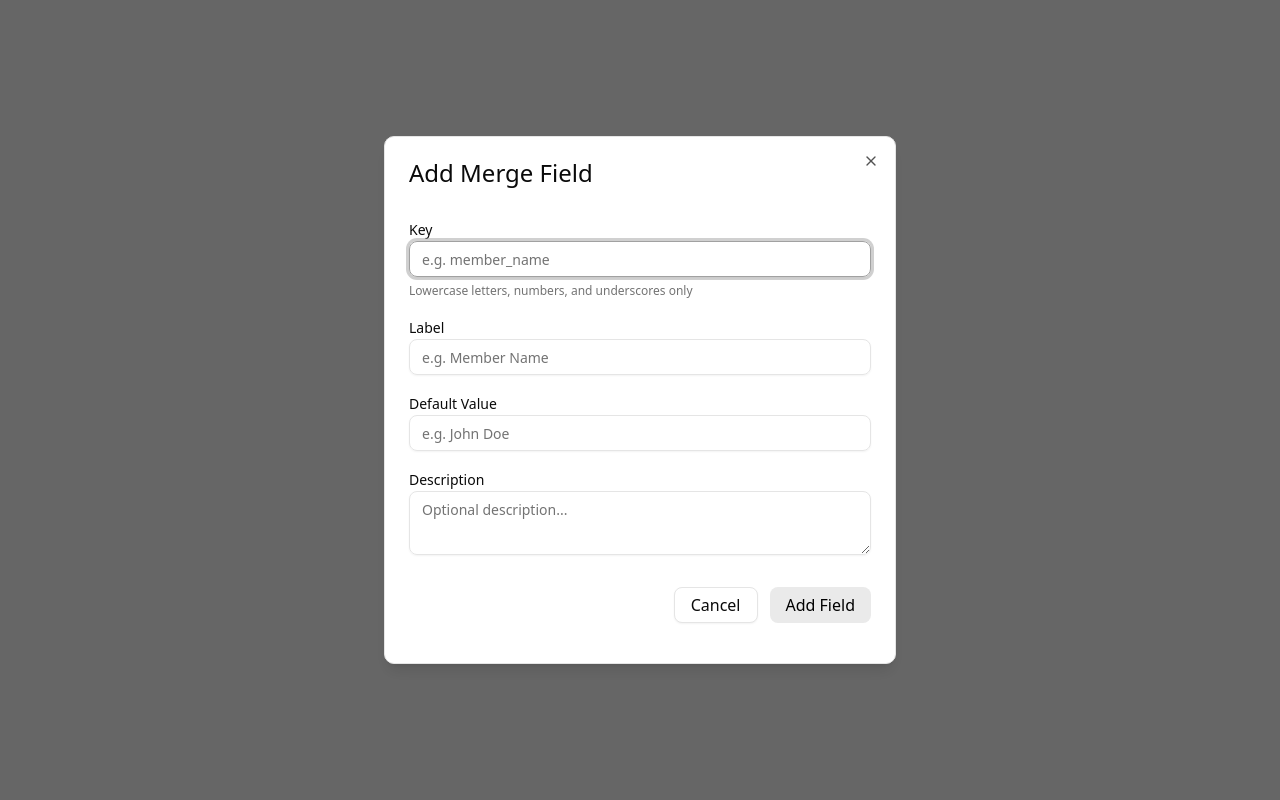
Test case: AddMergeFieldModal › should enable save button when all required fields are filled
The image size is (1280, 800).
Type "member_name" into the field with placeholder "e.g. member_name". click: (640, 259)
box: 409,241 -> 871,277
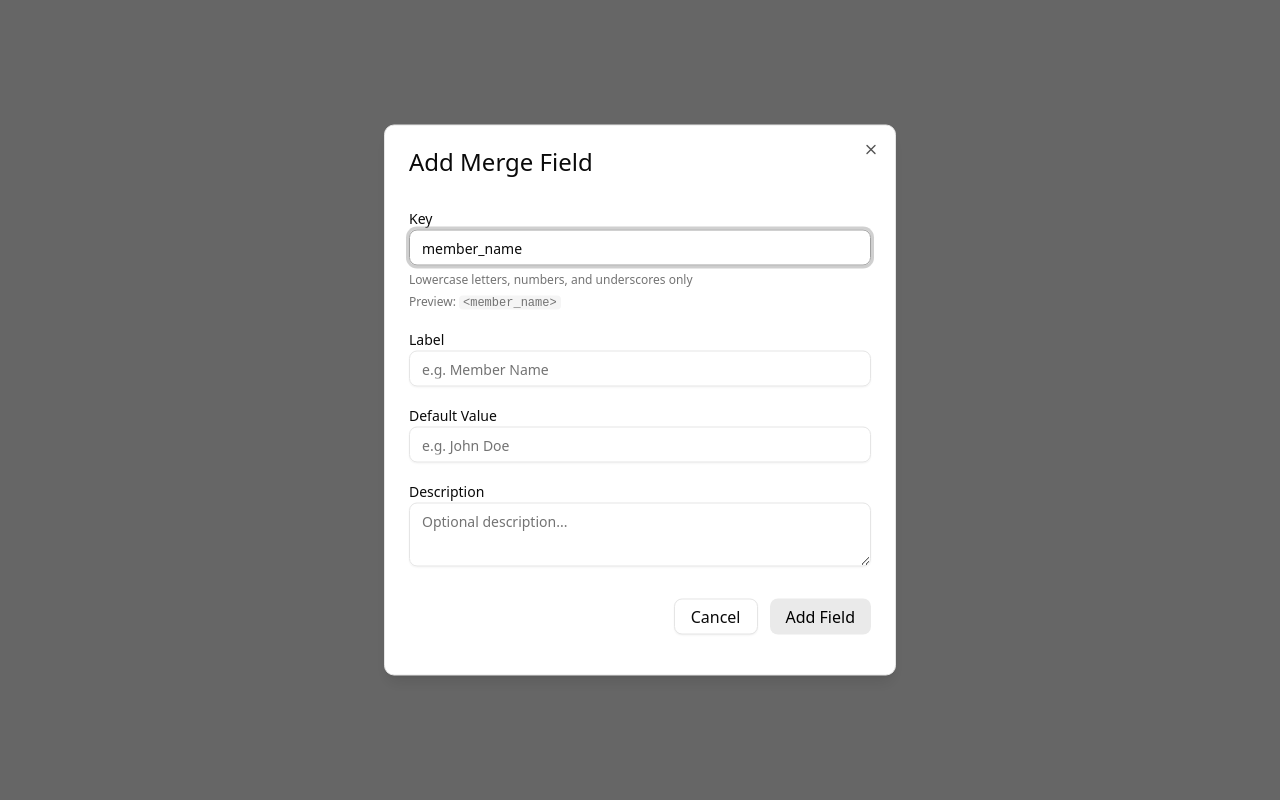
Type "Member Name" into the field with placeholder "e.g. Member Name". click: (640, 368)
box: 409,350 -> 871,386
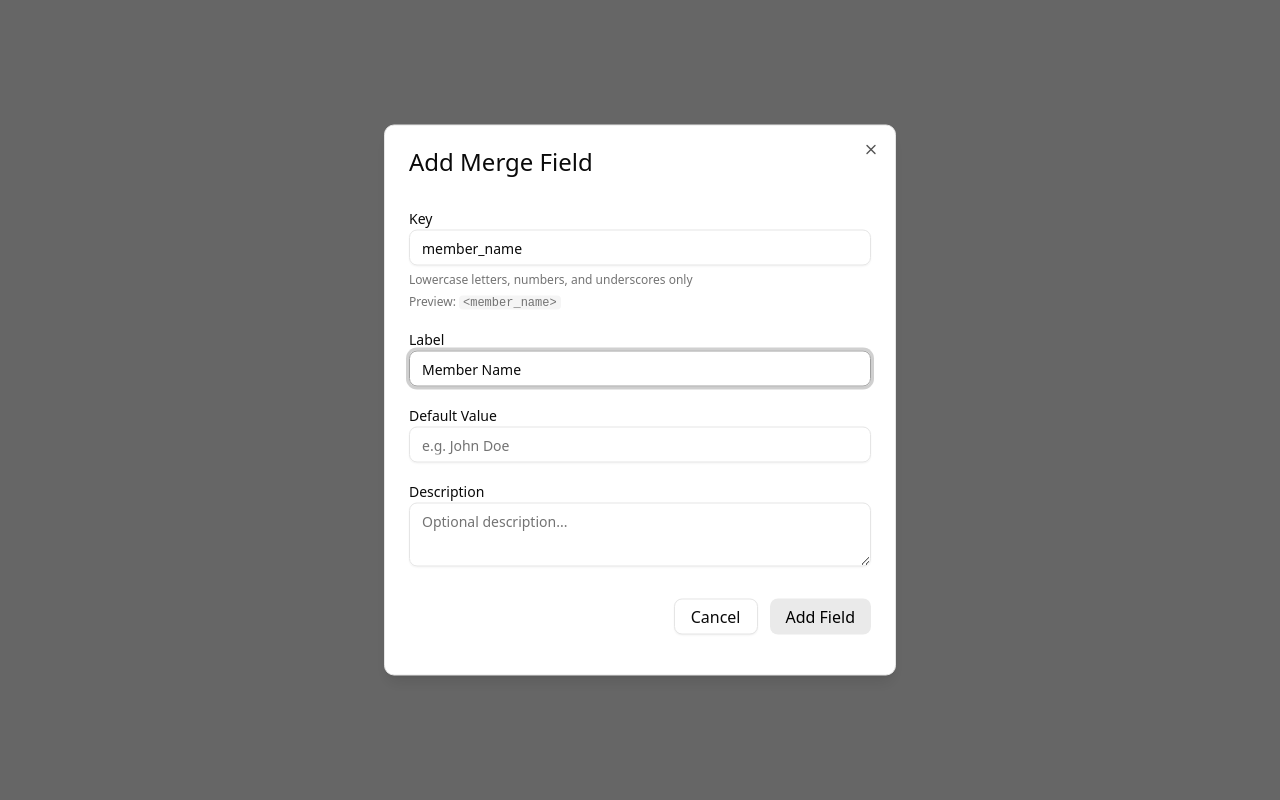
Type "John Doe" into the field with placeholder "e.g. John Doe". click: (640, 444)
box: 409,426 -> 871,462
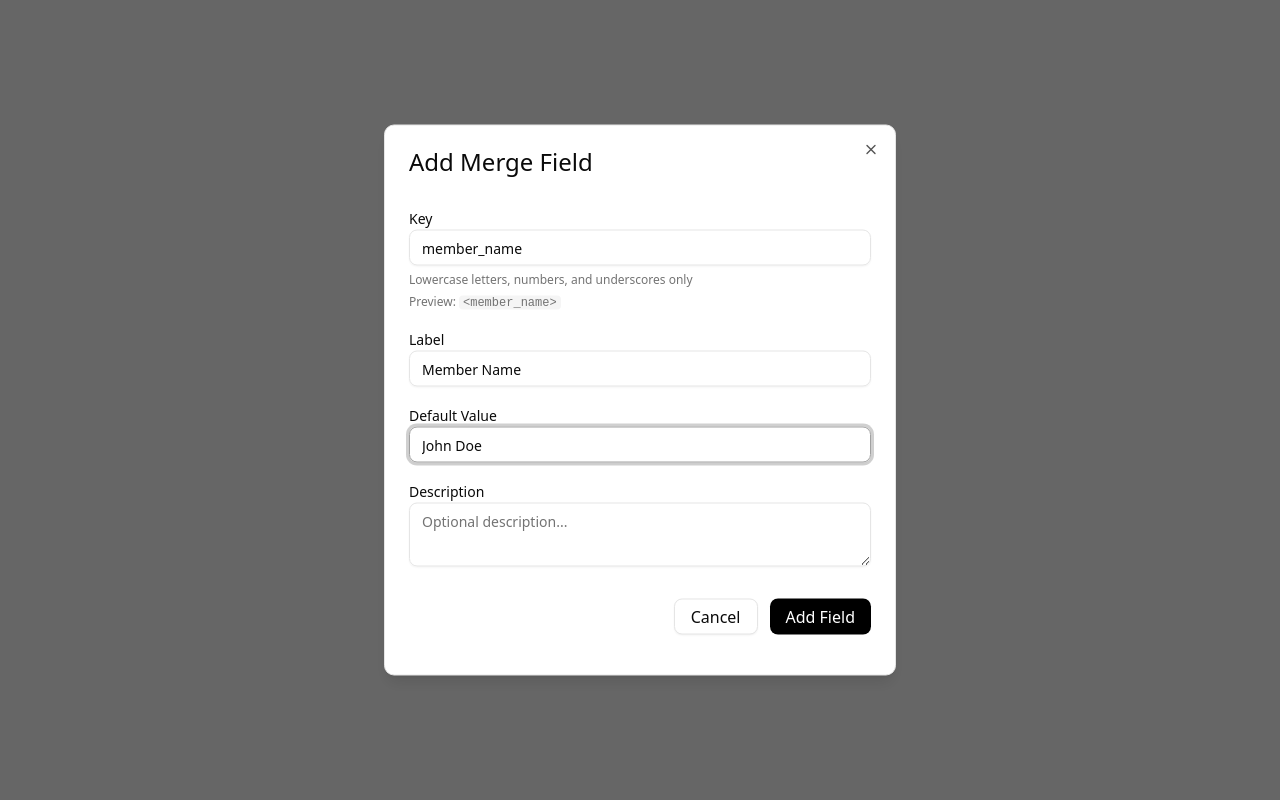
Now the button "Add Field" is enabled, box 770,598 -> 871,634
